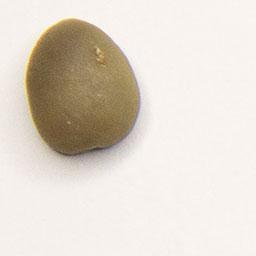premium: (23, 15, 144, 156)
